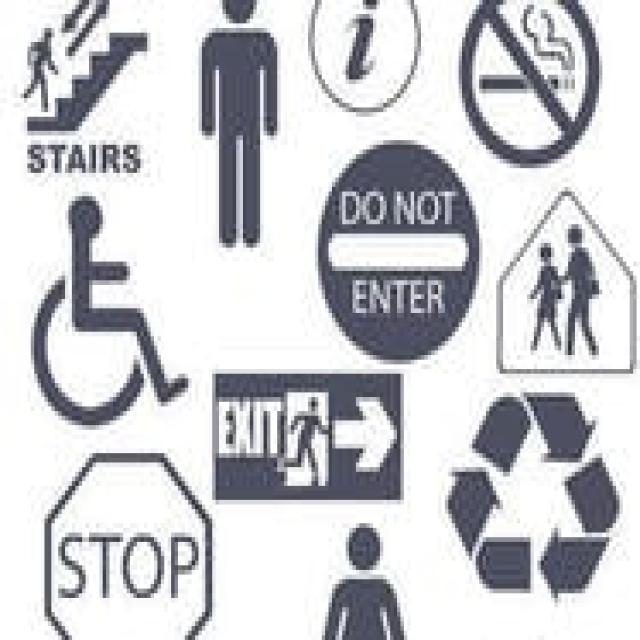car-handicap-placard: (30, 190, 191, 431)
